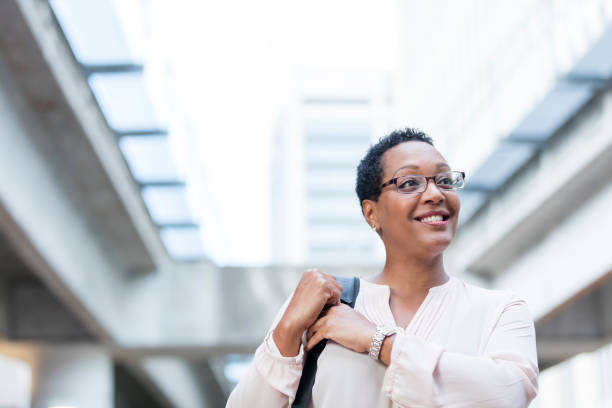face: (364, 133, 469, 256)
